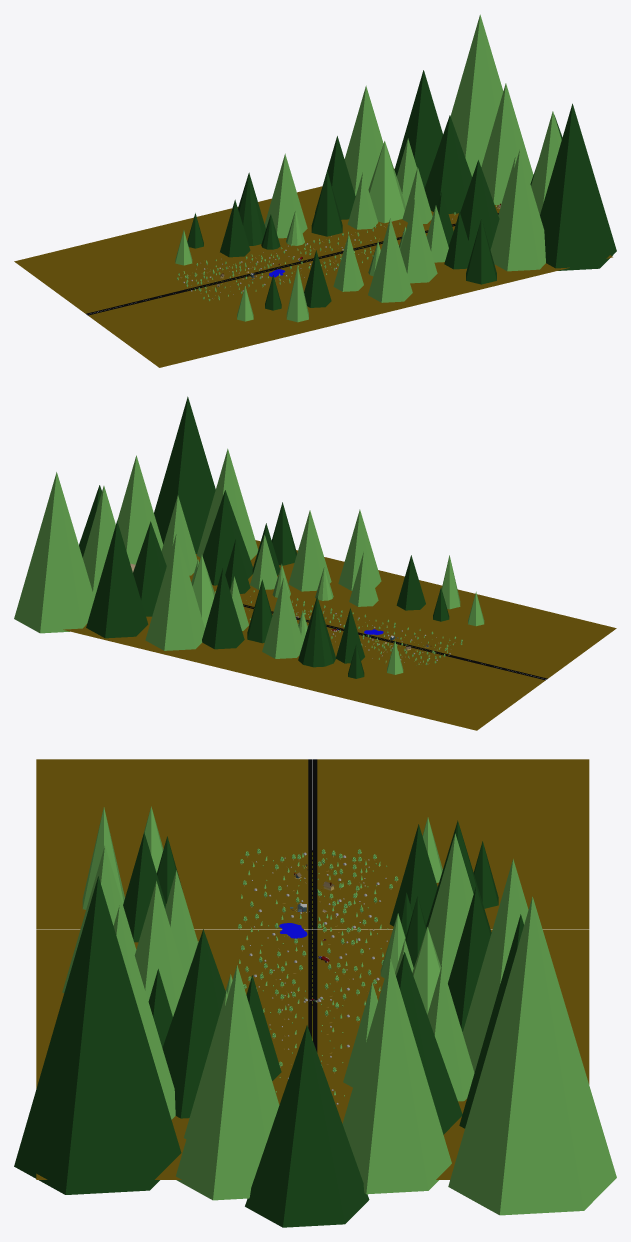
File: WholeScene.fbx
The picture shows the model from 3 angles, top to bottom: view 1: azimuth 30°, elevation 25°; view 2: azimuth 150°, elevation 25°; view 3: azimuth 270°, elevation 25°; orthographic projection. The views are drawn at different scales.
Parts seen in each view (by area): view 1: grass_n_road:pPlane2, pCone28, pCone27, pCone7, pCone19, pCone6, pCone8, pCone33, pCone17, pCone5, pCone4, pCone9 (+15 smaller); view 2: grass_n_road:pPlane2, pCone27, pCone28, pCone8, pCone33, pCone20, pCone5, pCone7, pCone10, pCone18, pCone6, pCone19 (+13 smaller); view 3: grass_n_road:pPlane2, pCone27, pCone28, pCone19, pasted__pCone5, pCone20, pCone5, pCone33, pCone6, pCone18, pCone9, pCone34 (+18 smaller).
Boxes of the visible parts, x1,y1,x2,y2 form: grass_n_road:pPlane2: (14, 168, 612, 367); pCone28: (540, 103, 616, 270); pCone27: (450, 14, 503, 176); pCone7: (490, 149, 545, 271); pCone19: (481, 83, 533, 204); pCone6: (424, 115, 472, 213); pCone8: (394, 70, 442, 188); pCone33: (344, 85, 383, 195); pCone17: (368, 218, 412, 302); pCone5: (448, 160, 499, 251); pCone4: (368, 141, 405, 223); pCone9: (400, 198, 437, 283); grass_n_road:pPlane2: (63, 540, 616, 730); pCone27: (14, 472, 94, 633); pCone28: (154, 396, 215, 553); pCone8: (86, 521, 148, 638); pCone33: (145, 533, 204, 650); pCone20: (117, 455, 163, 564); pCone5: (202, 490, 252, 585); pCone7: (196, 448, 258, 560); pCone10: (202, 568, 244, 649); pCone18: (262, 577, 303, 658); pCone6: (133, 521, 166, 616); pCone19: (82, 486, 115, 597); grass_n_road:pPlane2: (36, 759, 589, 1179); pCone27: (448, 896, 616, 1215); pCone28: (14, 876, 181, 1194); pCone19: (342, 959, 451, 1194); pasted__pCone5: (245, 1025, 369, 1227); pCone20: (176, 965, 279, 1200); pCone5: (162, 929, 225, 1118); pCone33: (462, 859, 528, 1072); pCone6: (396, 952, 462, 1134); pCone18: (428, 833, 473, 982); pCone9: (134, 881, 185, 1016); pCone34: (427, 965, 474, 1101).
Bounding box in the file's own units: 1823 × 601 × 1017.
